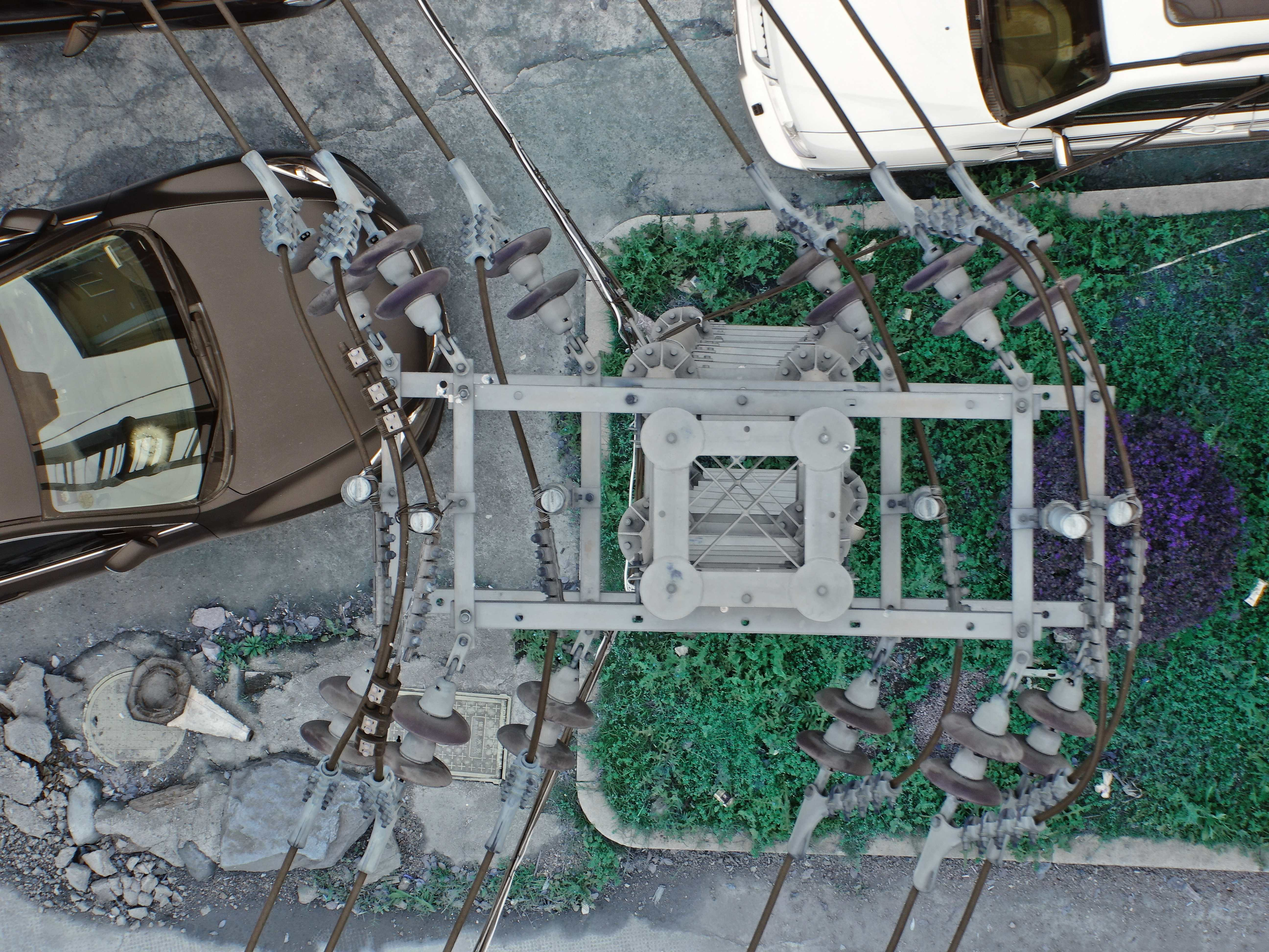severe_soiling_no_discharge_whole: (913, 686, 1038, 811), (343, 214, 457, 337), (898, 235, 1012, 354), (974, 226, 1090, 342), (491, 654, 599, 778), (293, 651, 400, 773), (475, 217, 585, 334), (771, 224, 880, 340), (792, 662, 898, 779), (372, 672, 473, 794), (274, 224, 382, 336), (1002, 664, 1100, 784)
